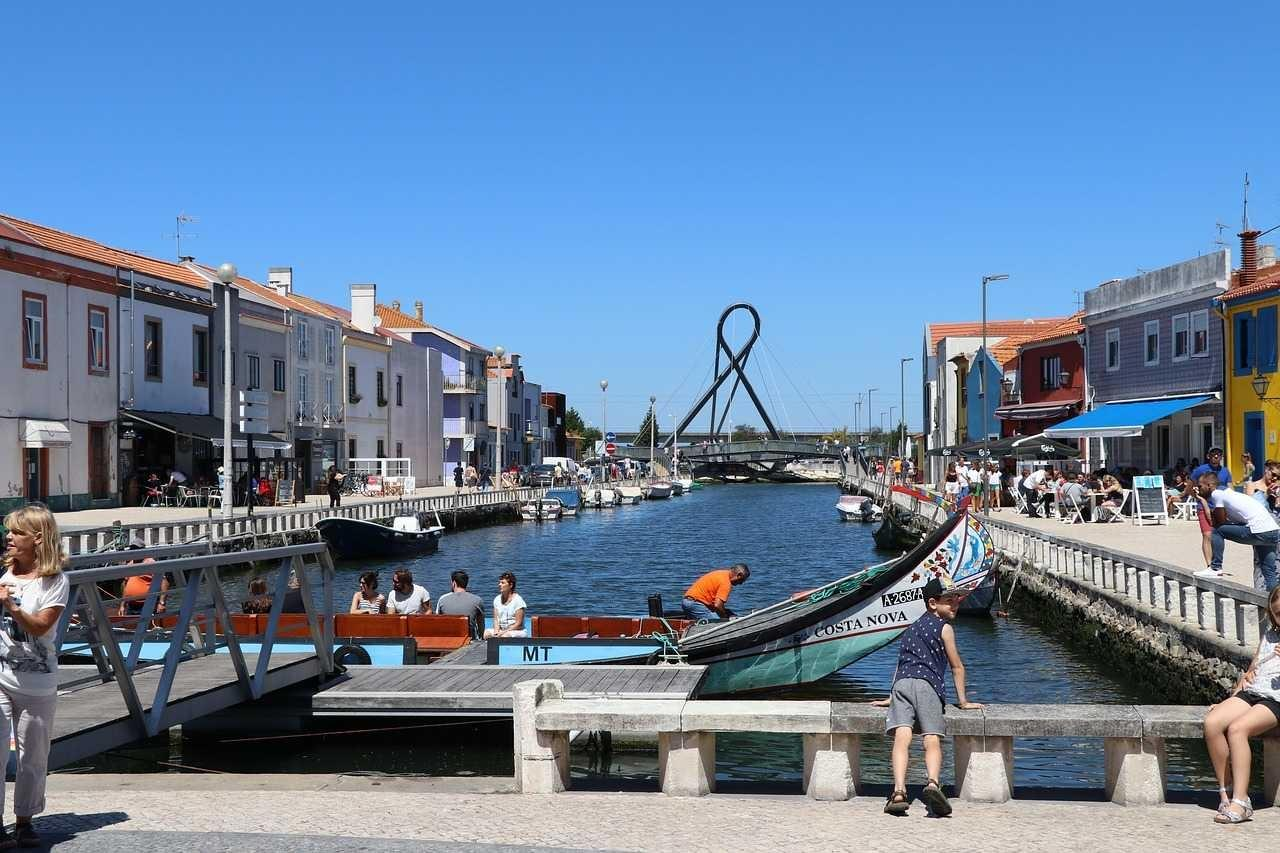kayak: (665, 490, 993, 695), (211, 610, 477, 664), (315, 512, 444, 562), (872, 512, 922, 551), (581, 463, 623, 507), (528, 486, 581, 519), (835, 495, 879, 523), (520, 497, 566, 521), (645, 478, 677, 501)
